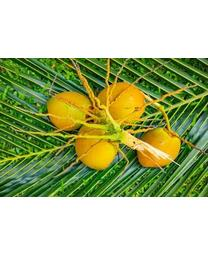coconut: (90, 81, 146, 127), (44, 89, 93, 133), (136, 127, 186, 169), (76, 125, 120, 168)
